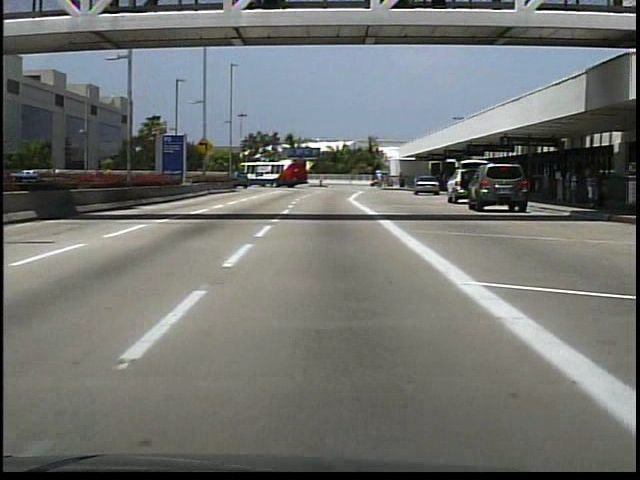person: (578, 165, 601, 212)
